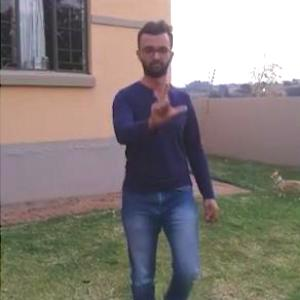land_hand: (142, 69, 190, 126)
